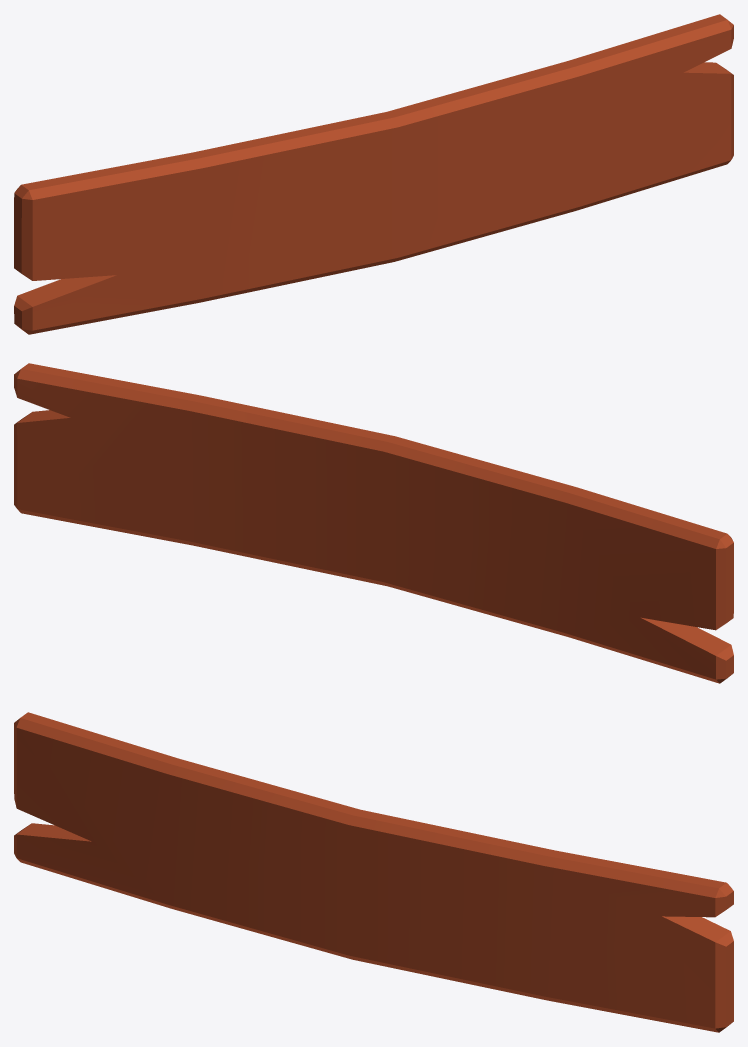
Rendered from SM_Plank_001.fbx.
The picture shows the model from 3 angles, top to bottom: view 1: azimuth 30°, elevation 25°; view 2: azimuth 150°, elevation 25°; view 3: azimuth 330°, elevation 25°; orthographic projection.
Visible parts, largest first — view 1: Plank_001; view 2: Plank_001; view 3: Plank_001.
Part boxes in pixels (box(x1,y1,x2,y2)): Plank_001: box(14, 14, 733, 334); Plank_001: box(14, 363, 733, 683); Plank_001: box(14, 712, 733, 1032).
Bounding box in the file's own units: 149 × 28.86 × 11.69.
1 material, 1 textured.
